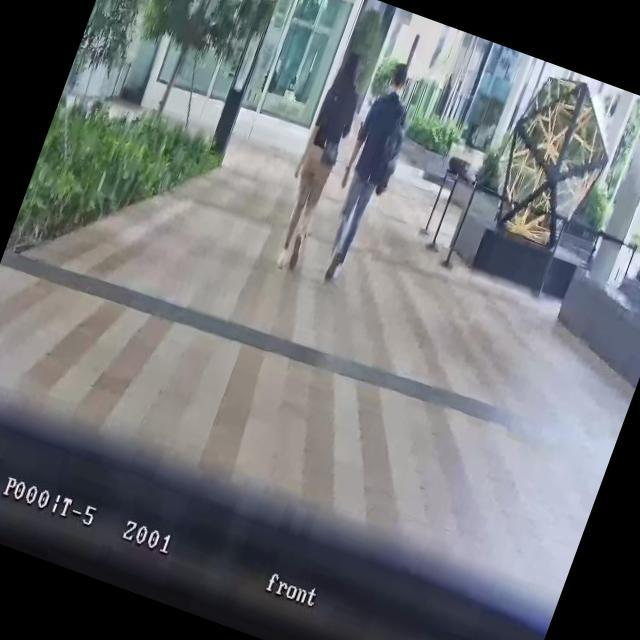person: (306, 58, 431, 293), (262, 46, 378, 276)
